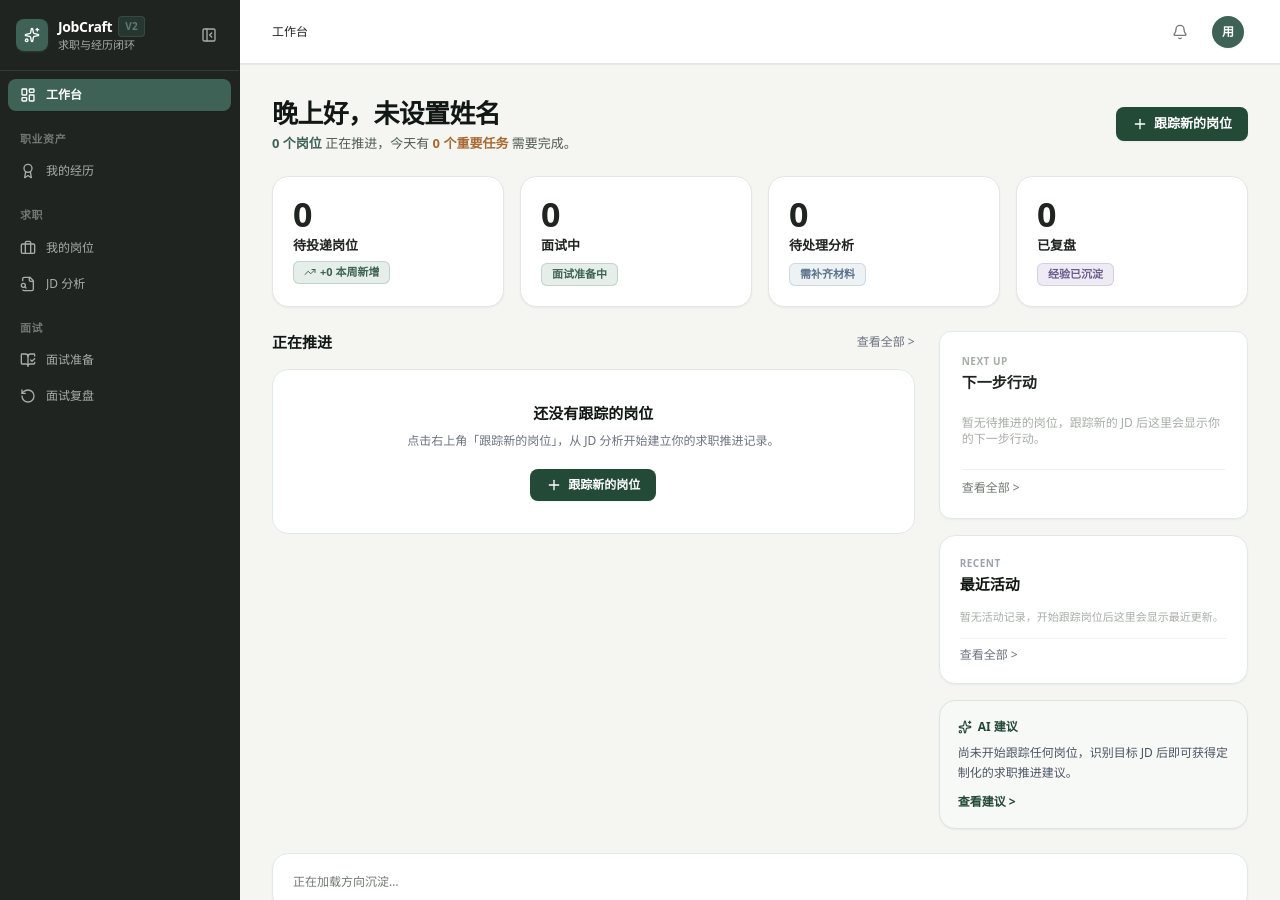
Test case: FE-ROUTE-03 AppShell 内导航生效（真实路由跳转） › 工作台「面试中」卡片 → /prep 面试准备中心
Click the text "面试中" at (560, 245), box x1=541 y1=236 x2=580 y2=254
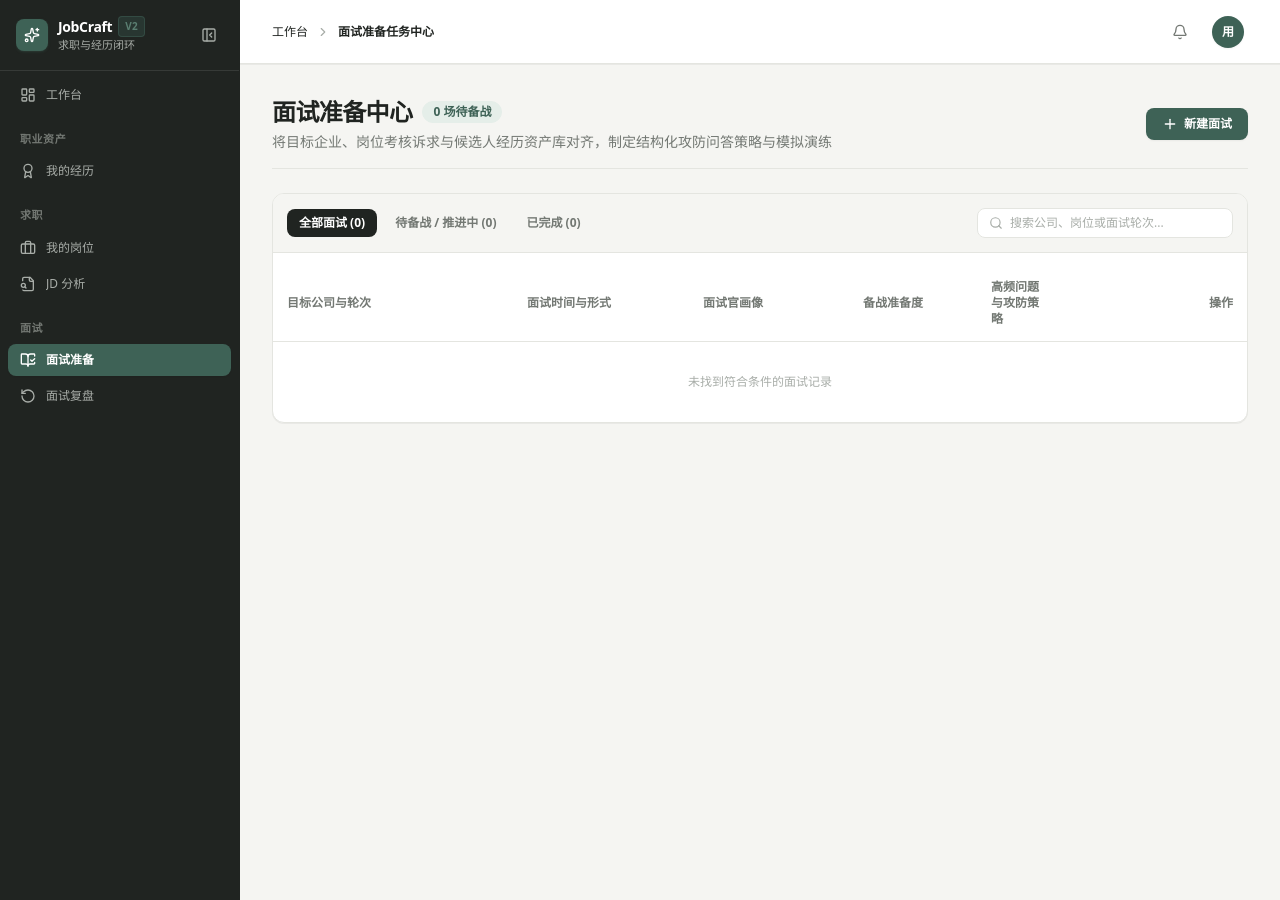
Expected: the heading "面试准备中心" is shown, x1=272 y1=96 x2=412 y2=128
